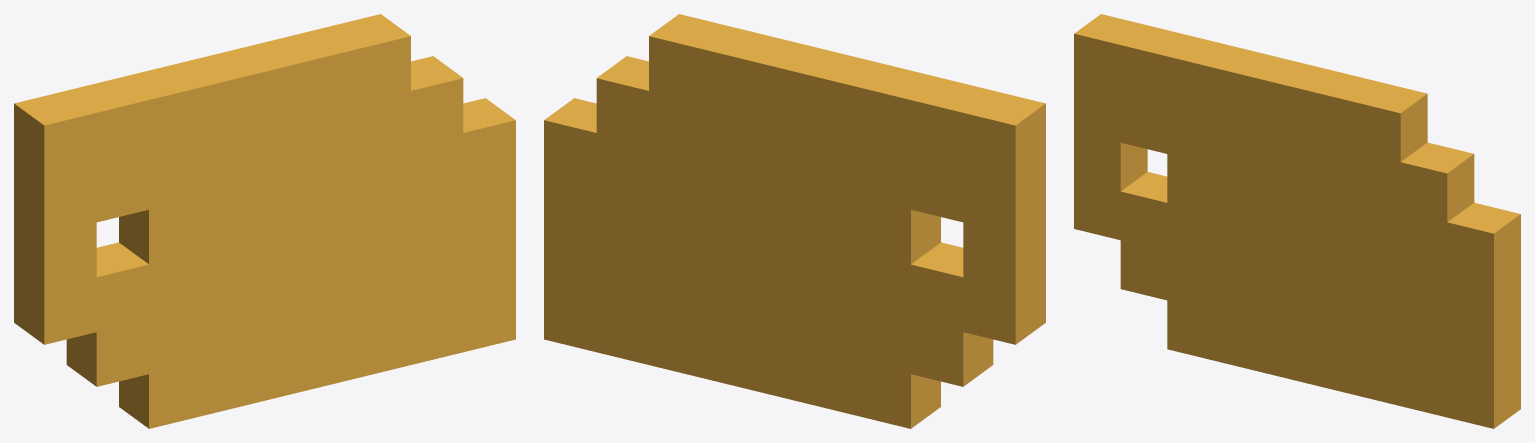
Rendered from Box-Orange.vox.obj.
The picture shows the model from 3 angles, left to right: view 1: azimuth 30°, elevation 25°; view 2: azimuth 150°, elevation 25°; view 3: azimuth 330°, elevation 25°; orthographic projection. The views are drawn at different scales.
Bounding box in the file's own units: 0.9 × 0.6 × 0.1.
Materials: 1 (1 with a texture image).
